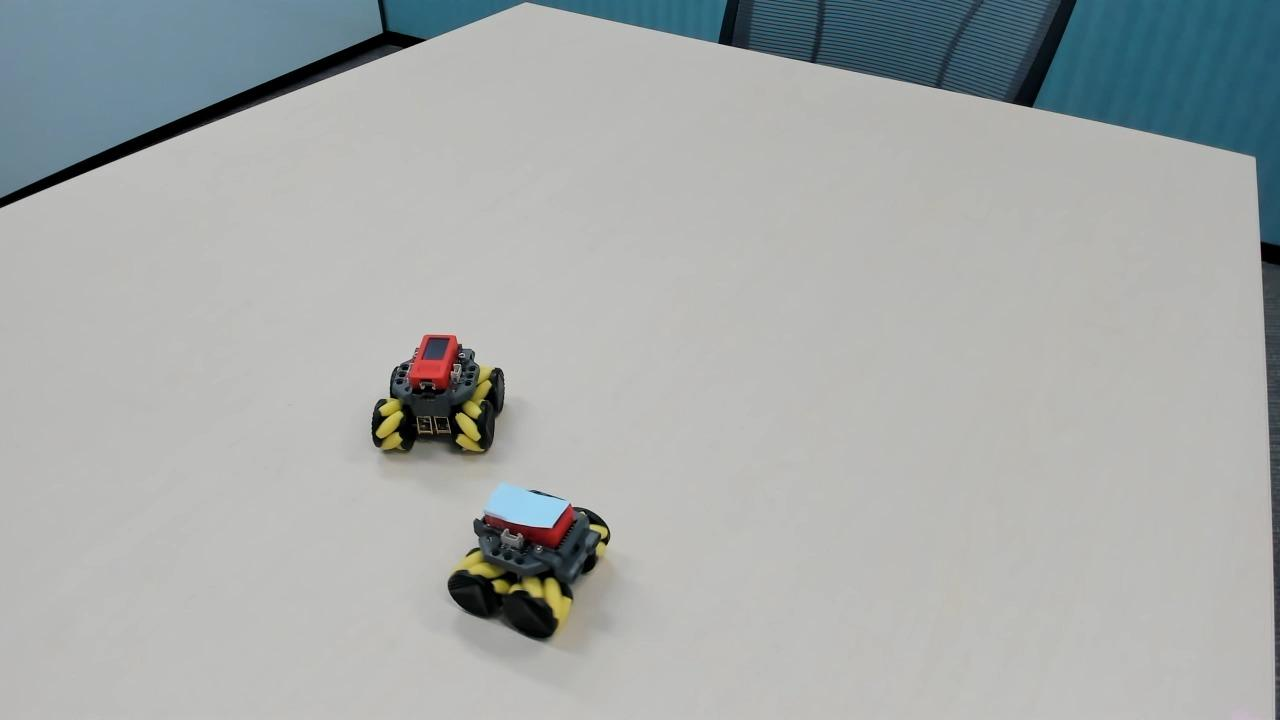B-Robot: (440, 466, 629, 650)
R-Robot: (368, 324, 511, 465)
